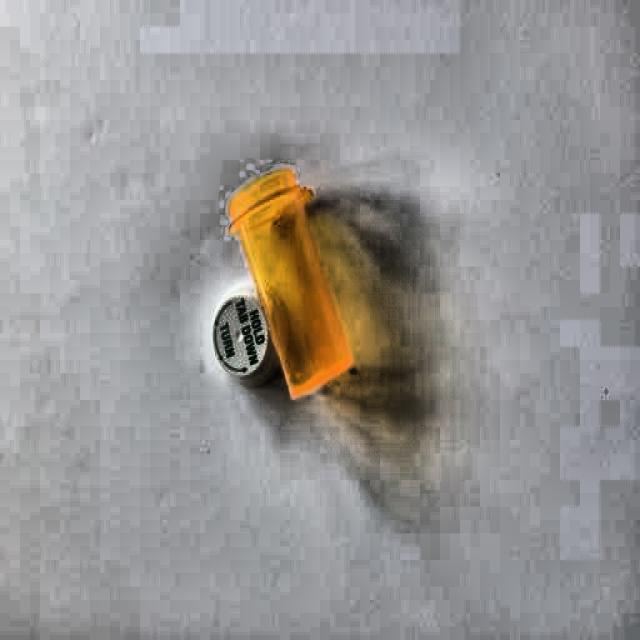plastic: (209, 164, 355, 394)
